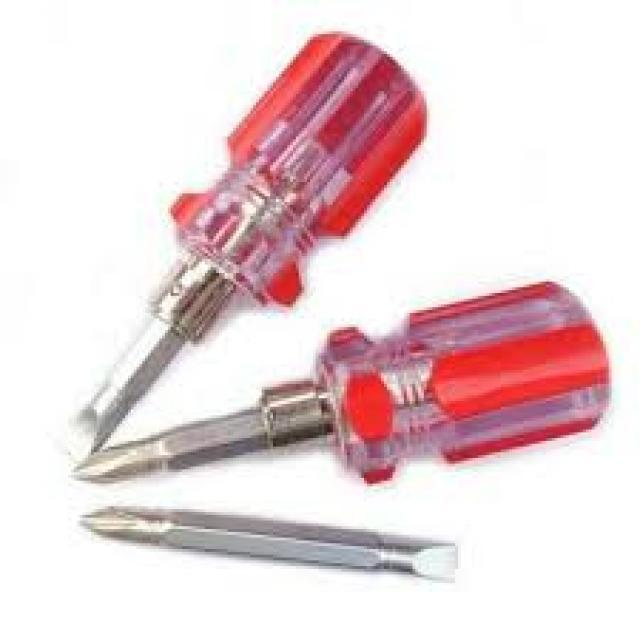screwdriver: (52, 27, 432, 468), (70, 278, 614, 486)
